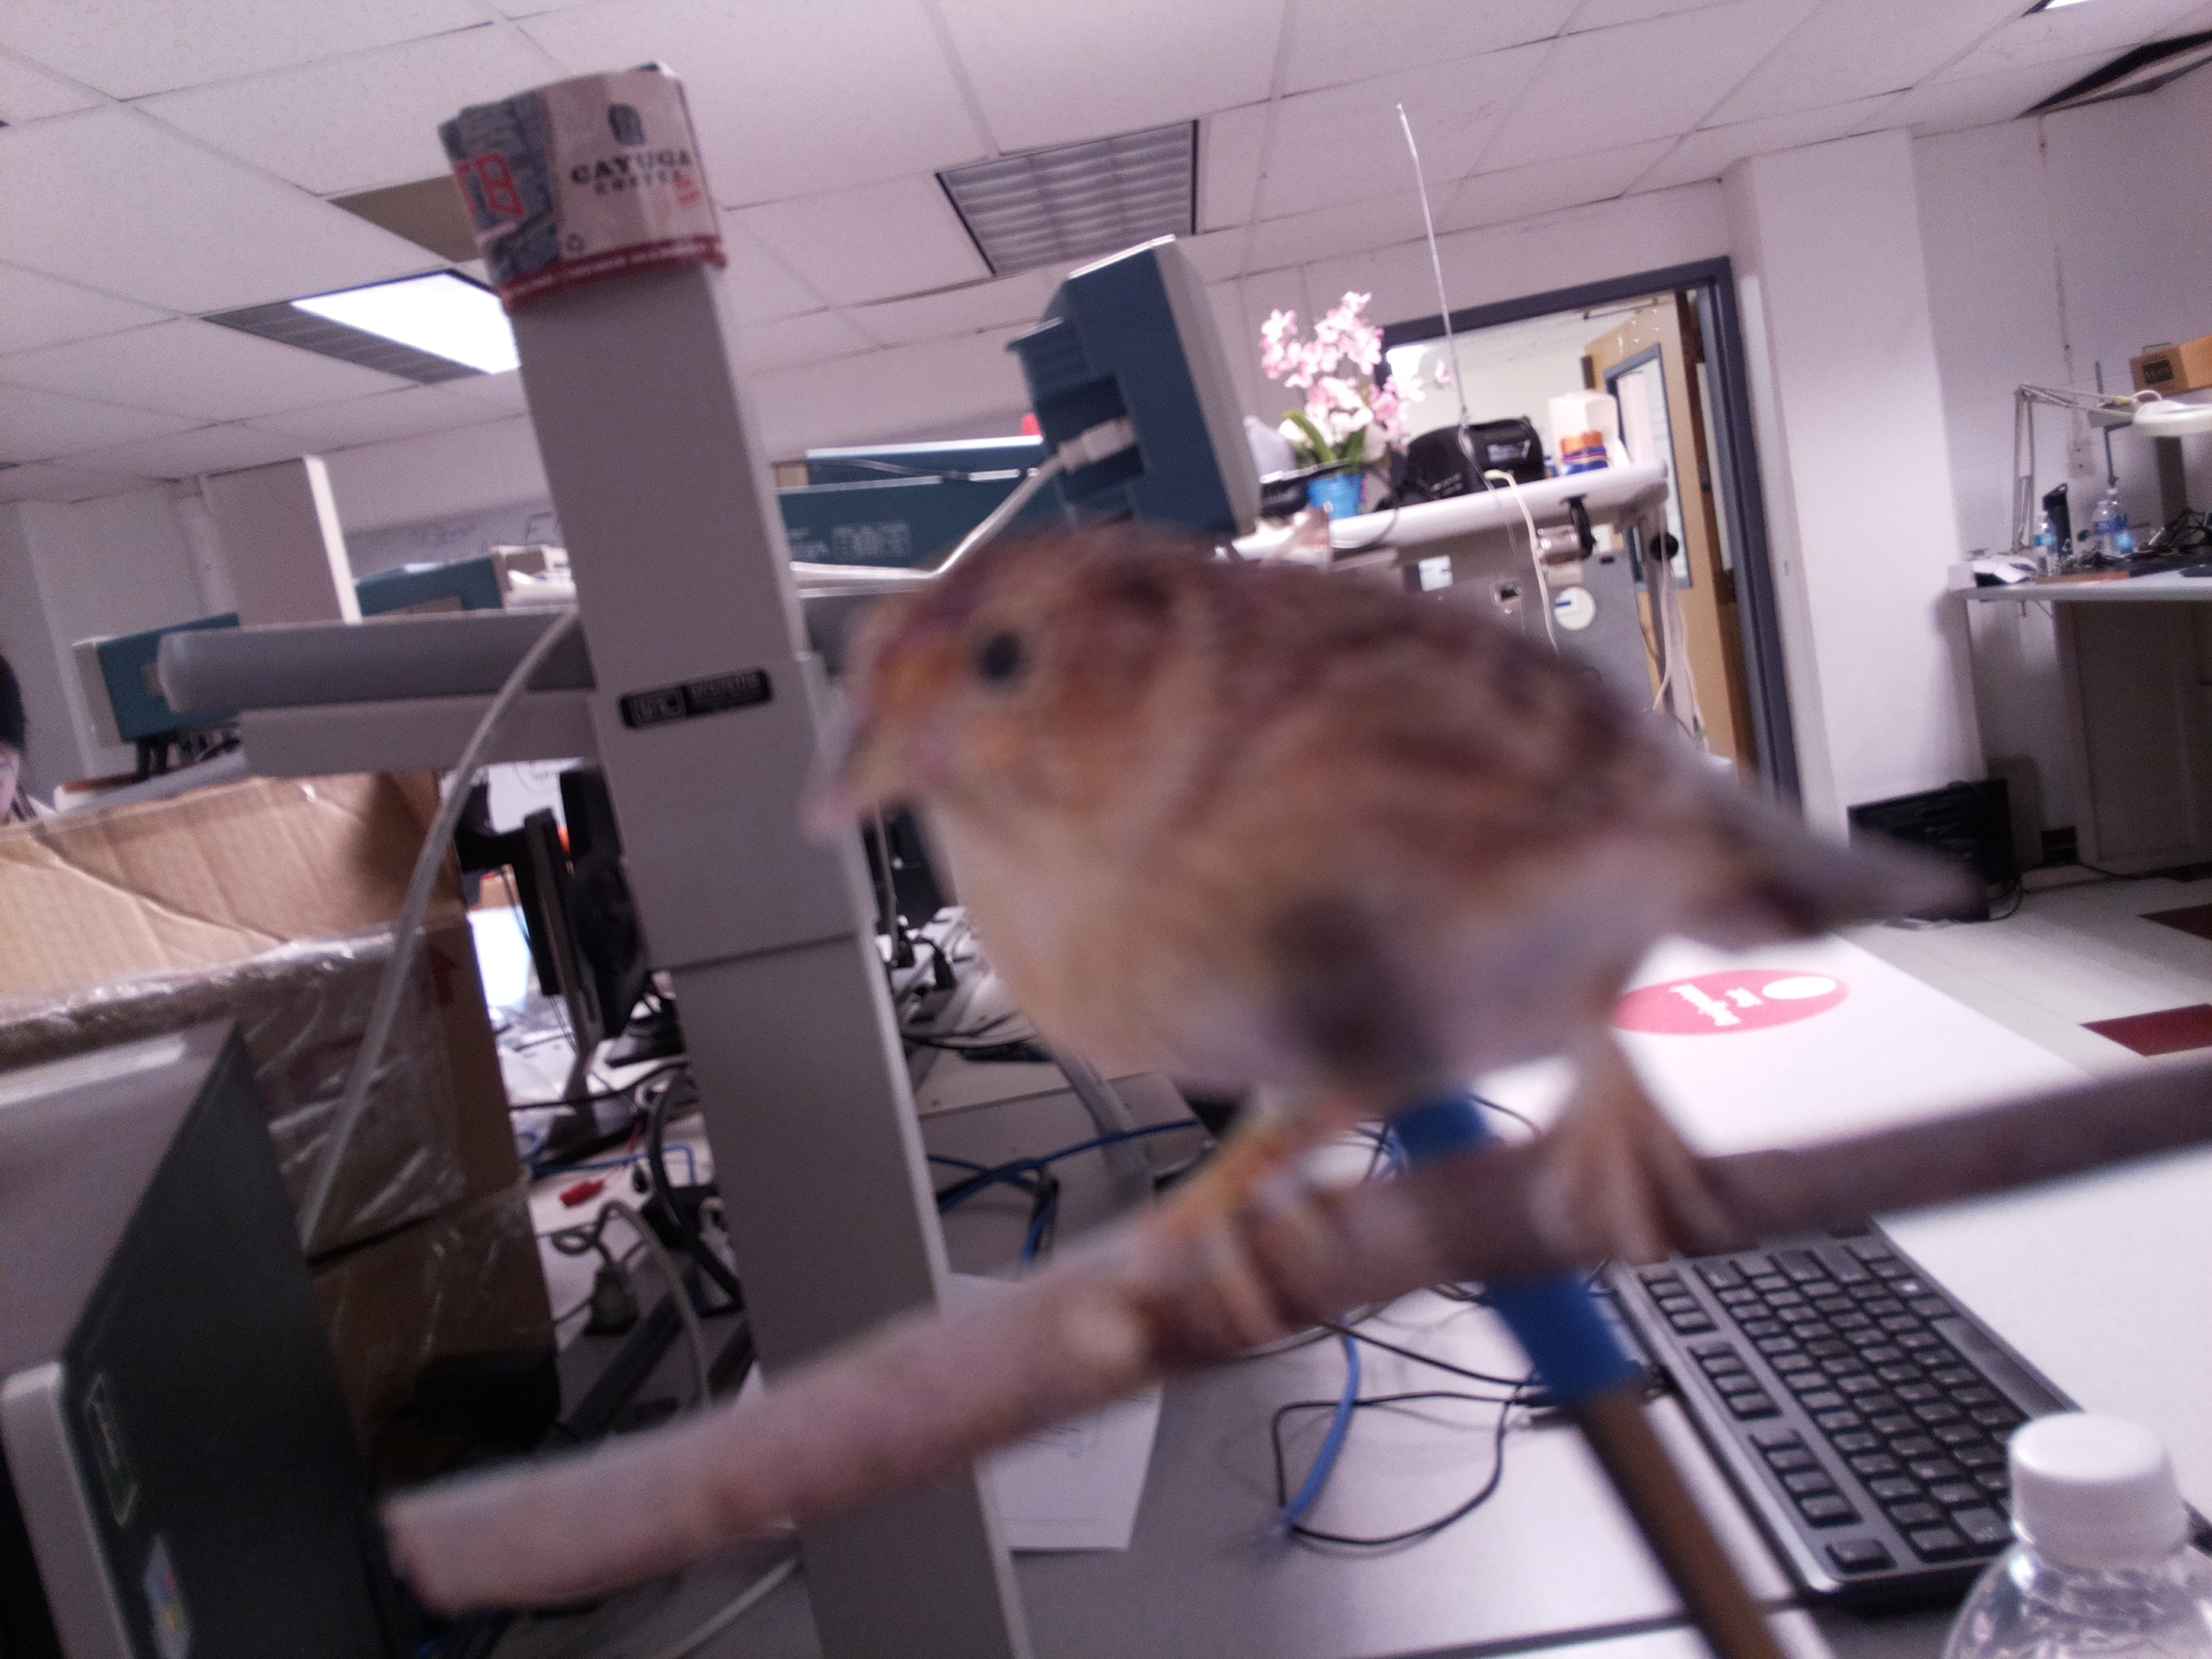bird: (775, 512, 1996, 1281)
